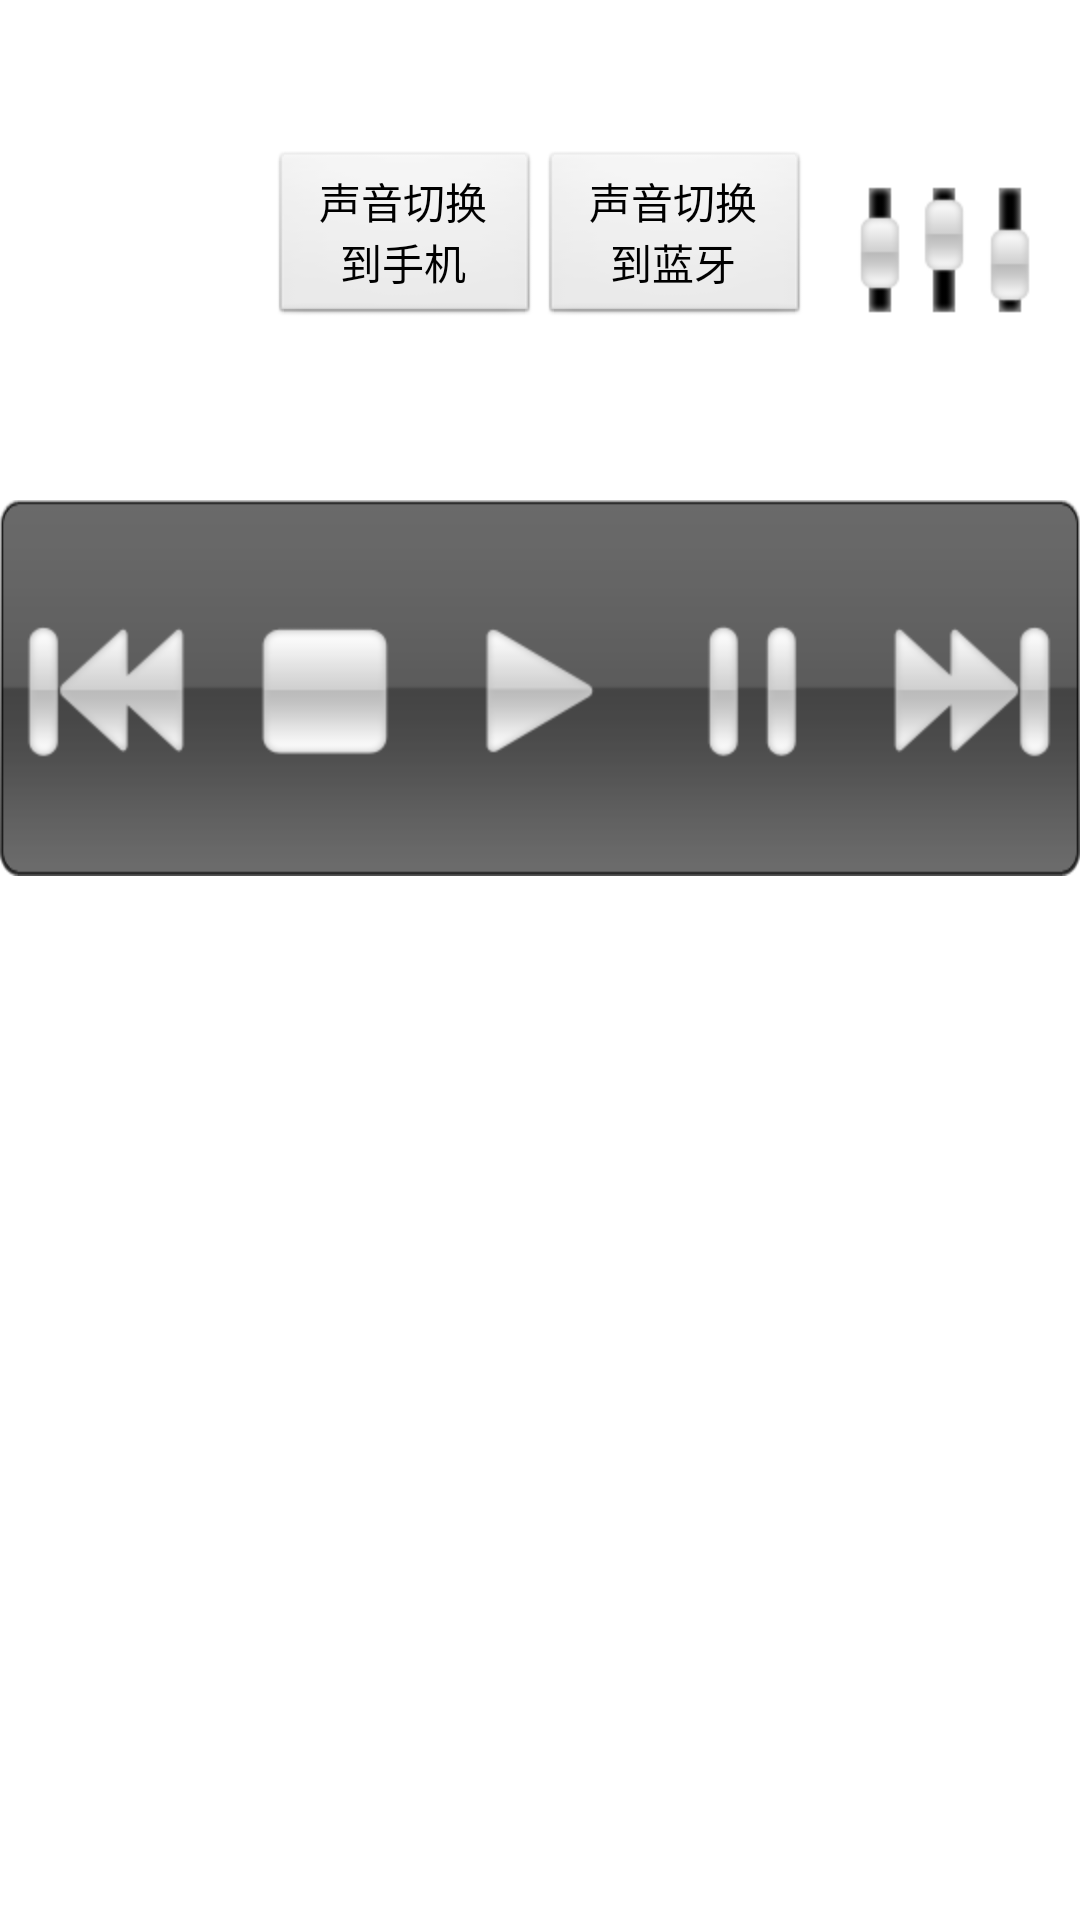

Locate icon controls on the screen. Image size 1080px x 1920px, boxes as region(x1, y1, x2, y2).
audio set: region(861, 187, 1029, 313)
pause: region(709, 627, 796, 756)
play: region(432, 629, 648, 752)
play next: region(894, 627, 1050, 756)
play prev: region(28, 627, 184, 756)
stop: region(262, 629, 387, 754)
